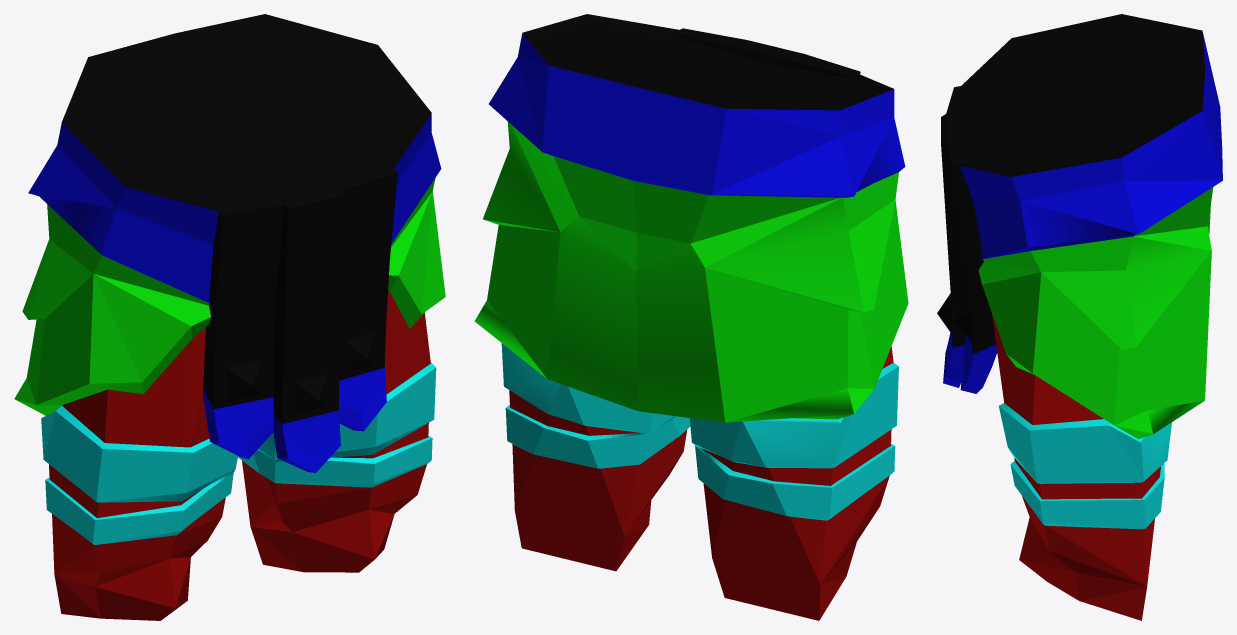
File: Chr_Hips_Male_Static_01.fbx
3 renders of one model, left to right at view 1: azimuth 30°, elevation 25°; view 2: azimuth 150°, elevation 25°; view 3: azimuth 270°, elevation 25°, orthographic. The views are drawn at different scales.
Visible parts, largest first — view 1: Chr_Hips_Male_01; view 2: Chr_Hips_Male_01; view 3: Chr_Hips_Male_01.
Part boxes in pixels (x1=…): Chr_Hips_Male_01: x1=14, y1=14, x2=445, y2=620; Chr_Hips_Male_01: x1=474, y1=14, x2=908, y2=620; Chr_Hips_Male_01: x1=937, y1=14, x2=1222, y2=620.
Size of the model in its own units: 42.74 by 55.4 by 29.67.
